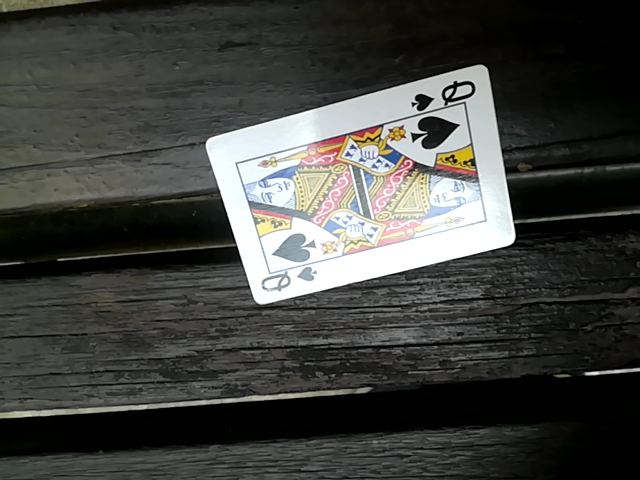ht q: (198, 65, 517, 305)
